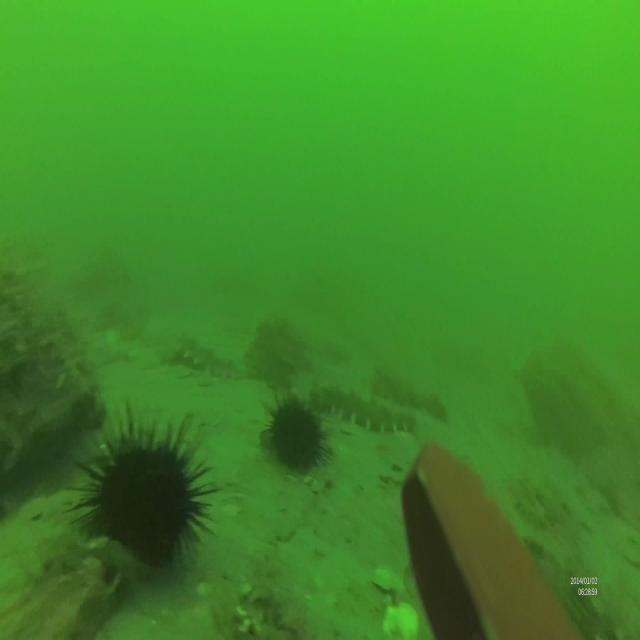echinus: (68, 402, 219, 572), (265, 386, 335, 474)
holothurian: (319, 380, 417, 435), (171, 329, 244, 382)
